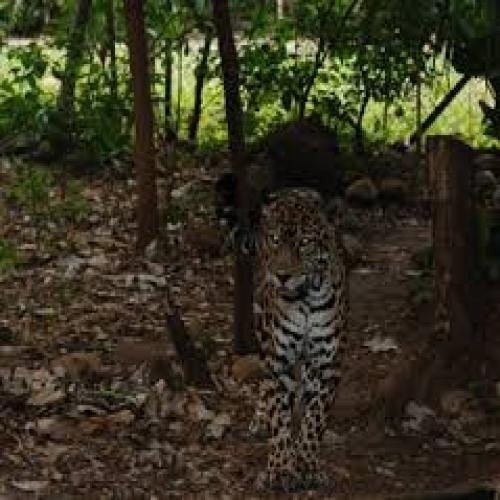jaguar_not-endangered: (251, 194, 345, 482)
